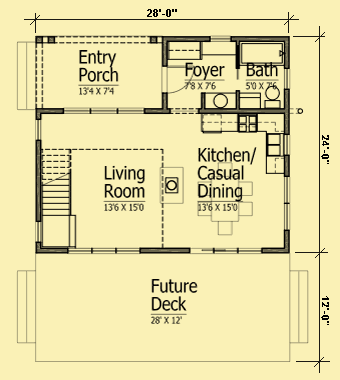door: (162, 66, 194, 93)
large_sink: (262, 85, 283, 108)
small_sink: (204, 92, 236, 108)
stairs: (38, 146, 69, 250)
tub: (239, 42, 284, 67)
windows: (61, 105, 145, 116), (185, 245, 261, 255), (69, 246, 142, 256), (283, 173, 291, 233), (208, 34, 231, 43)
